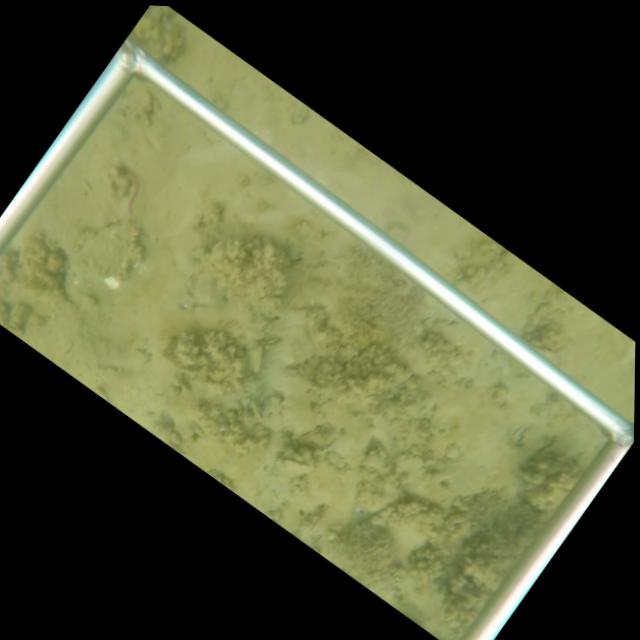Oyster-Closed: (62, 216, 143, 312), (274, 453, 314, 481)
